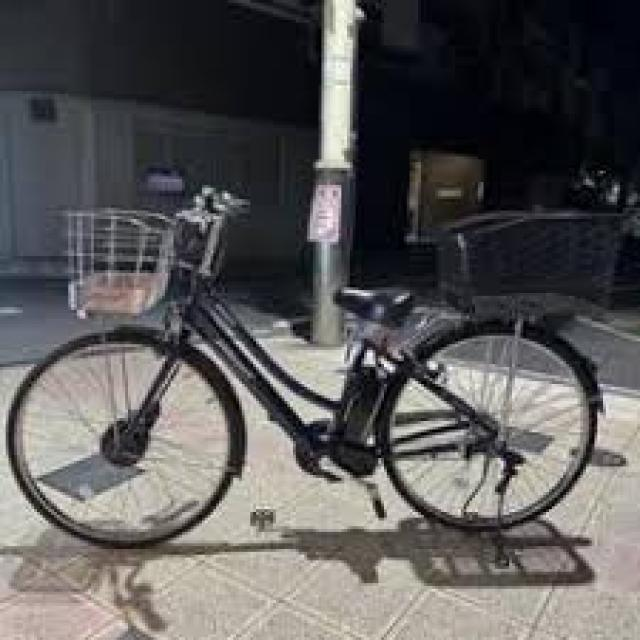basket: (438, 208, 620, 321), (64, 207, 175, 316)
